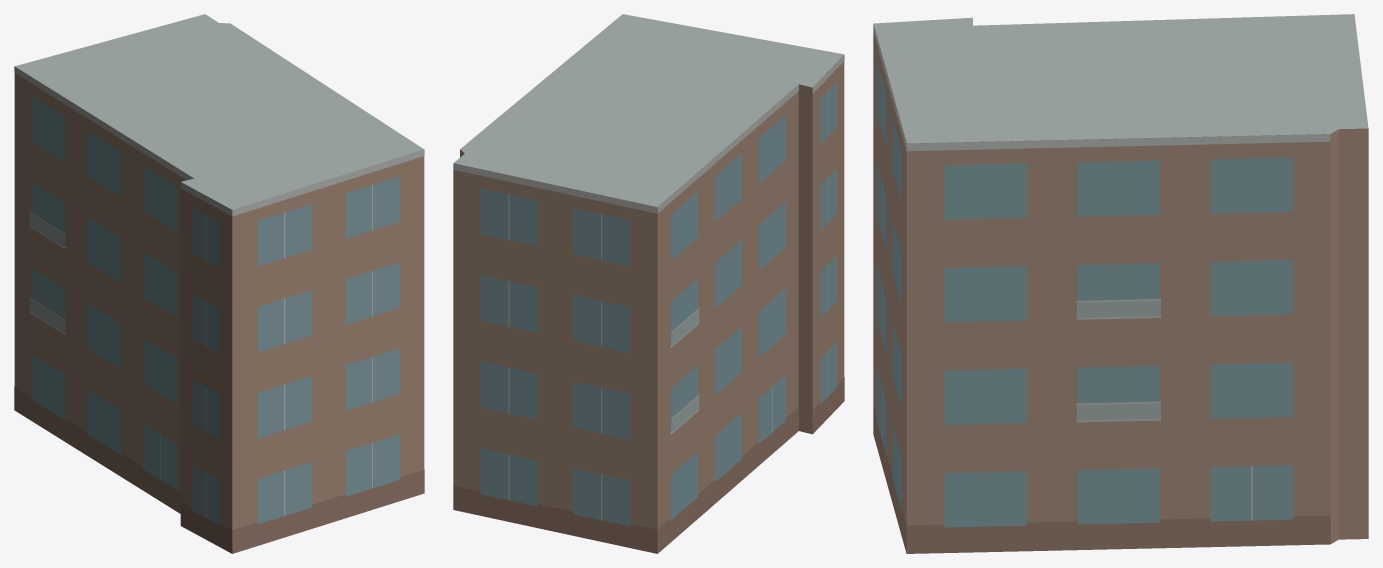
File: survey-upis-32746330.glb
The picture shows the model from 3 angles, left to right: view 1: azimuth 30°, elevation 25°; view 2: azimuth 150°, elevation 25°; view 3: azimuth 270°, elevation 25°; orthographic projection. The views are drawn at different scales.
Visible parts, largest first — view 1: survey-upis-32746330.tmp; view 2: survey-upis-32746330.tmp; view 3: survey-upis-32746330.tmp.
Part boxes in pixels (box(x1,y1,x2,y2)): survey-upis-32746330.tmp: box(14, 14, 424, 553); survey-upis-32746330.tmp: box(453, 14, 844, 553); survey-upis-32746330.tmp: box(873, 14, 1368, 553).
Bounding box in the file's own units: 8.67 × 12.8 × 14.01.
